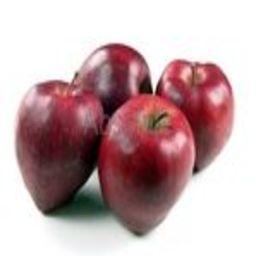apple: (99, 96, 195, 234), (14, 80, 104, 213), (157, 59, 236, 172), (70, 43, 149, 108)
